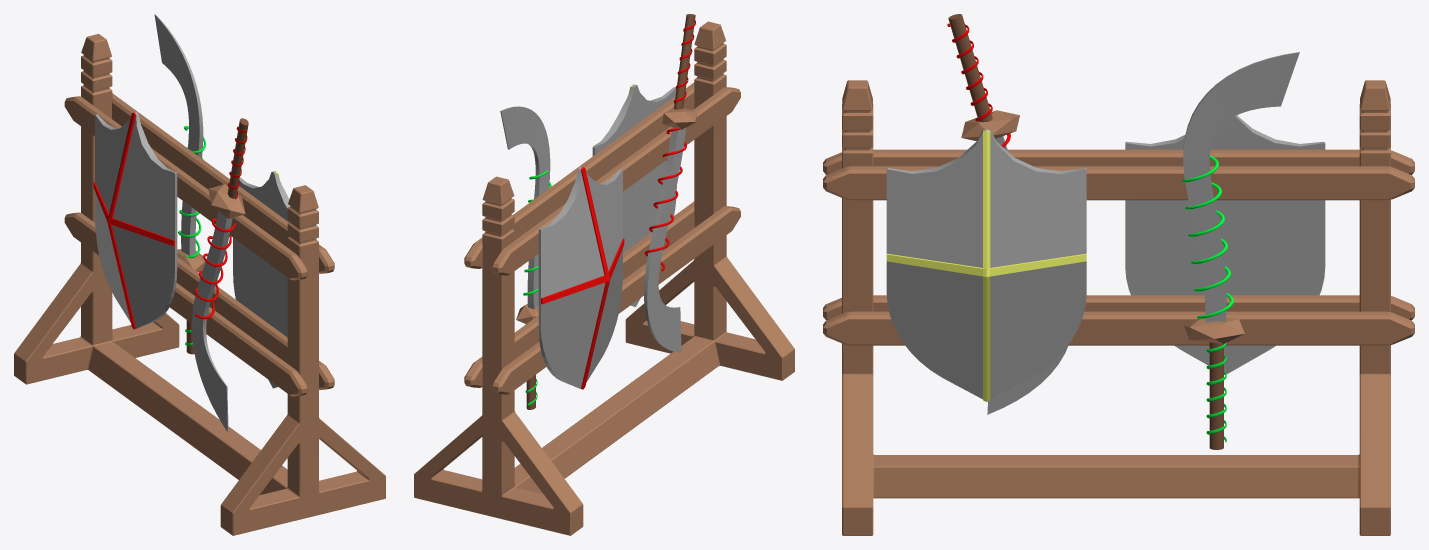
File: WeaponRack.fbx
The picture shows the model from 3 angles, left to right: view 1: azimuth 30°, elevation 25°; view 2: azimuth 150°, elevation 25°; view 3: azimuth 270°, elevation 25°; orthographic projection. The views are drawn at different scales.
Visible parts, largest first — view 1: WeaponRack; view 2: WeaponRack; view 3: WeaponRack.
Boxes of the visible parts, x1=… form: WeaponRack: x1=14, y1=14, x2=385, y2=535; WeaponRack: x1=414, y1=14, x2=794, y2=535; WeaponRack: x1=823, y1=14, x2=1414, y2=535.
Size of the model in its own units: 190 by 435 by 505.
